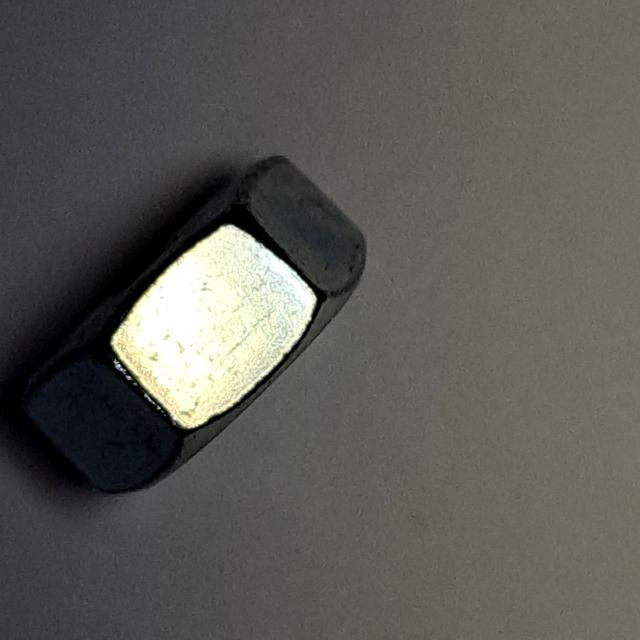Side_Excellent: (1, 137, 399, 521)
